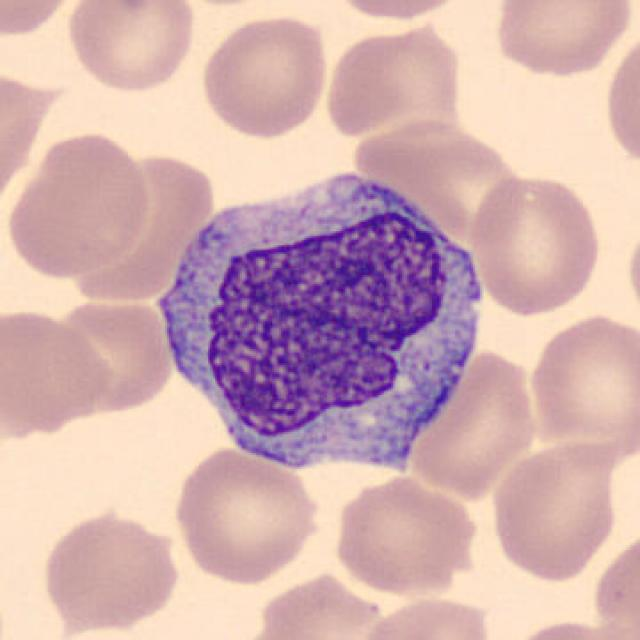Monocyte: (151, 154, 496, 490)
RBC: (1, 127, 154, 282), (402, 344, 544, 501), (169, 444, 323, 586), (466, 169, 604, 319), (485, 436, 624, 584), (329, 471, 482, 599), (37, 504, 183, 635), (320, 16, 466, 139), (195, 11, 332, 141), (524, 308, 640, 455), (0, 303, 114, 439), (62, 294, 176, 409), (62, 0, 199, 95), (488, 0, 636, 79), (249, 569, 389, 640), (350, 592, 498, 640), (601, 23, 640, 173), (588, 525, 638, 635), (320, 0, 475, 23), (499, 615, 636, 640), (0, 0, 85, 40), (228, 624, 356, 640)
